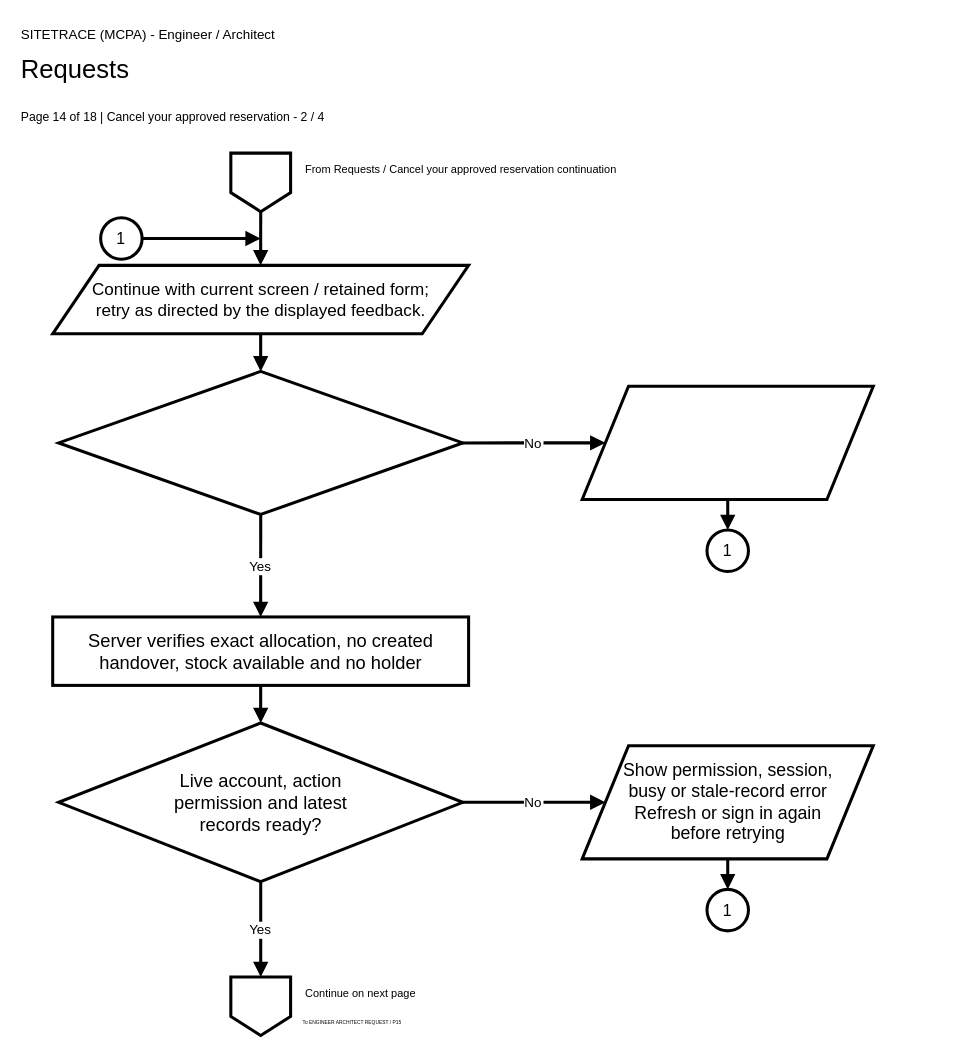
Some shapes in this 953 by 1058 pixel diagram are drawn without their labels. Each missing label, with the centre of its shape:
"HR" belongs at (x=260, y=182).
"HS" belongs at (x=260, y=1006).
"Reason and confirmation valid?" belongs at (x=260, y=442).
"Show required-field error; keep the form Complete the reason and confirmation" belongs at (x=727, y=442).
